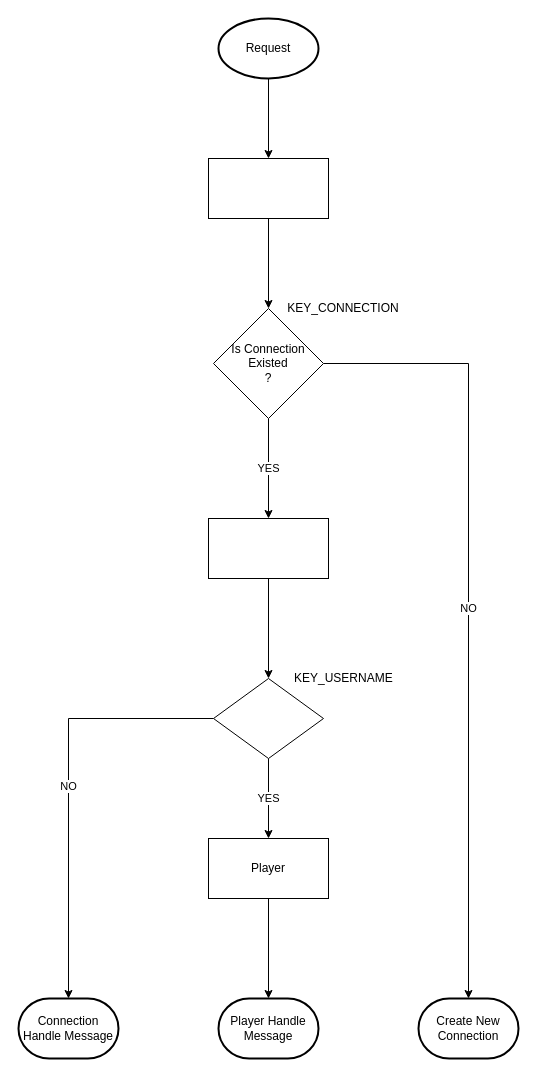
Some shapes in this 536 by 1076 pixel diagram are drawn without their labels. The shapes that lost their labels are listed below. From the top down, each one's box as (x1, y1, x2, y2) in pixels, then its label:
(208, 158, 328, 218): Channel
(208, 518, 328, 578): Connection
(212, 678, 324, 758): Is Player Existed ?
